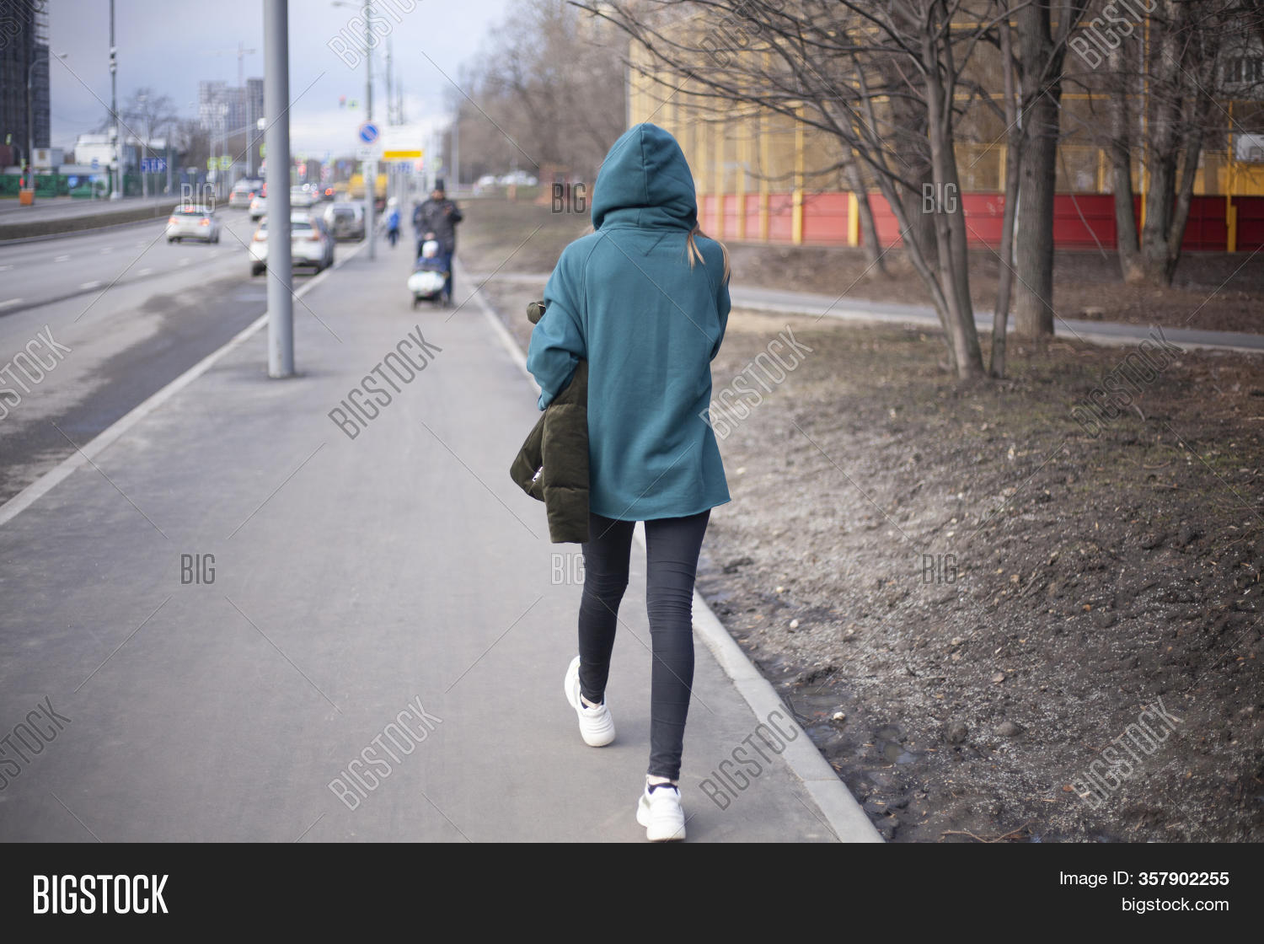Person: (509, 105, 740, 839)
